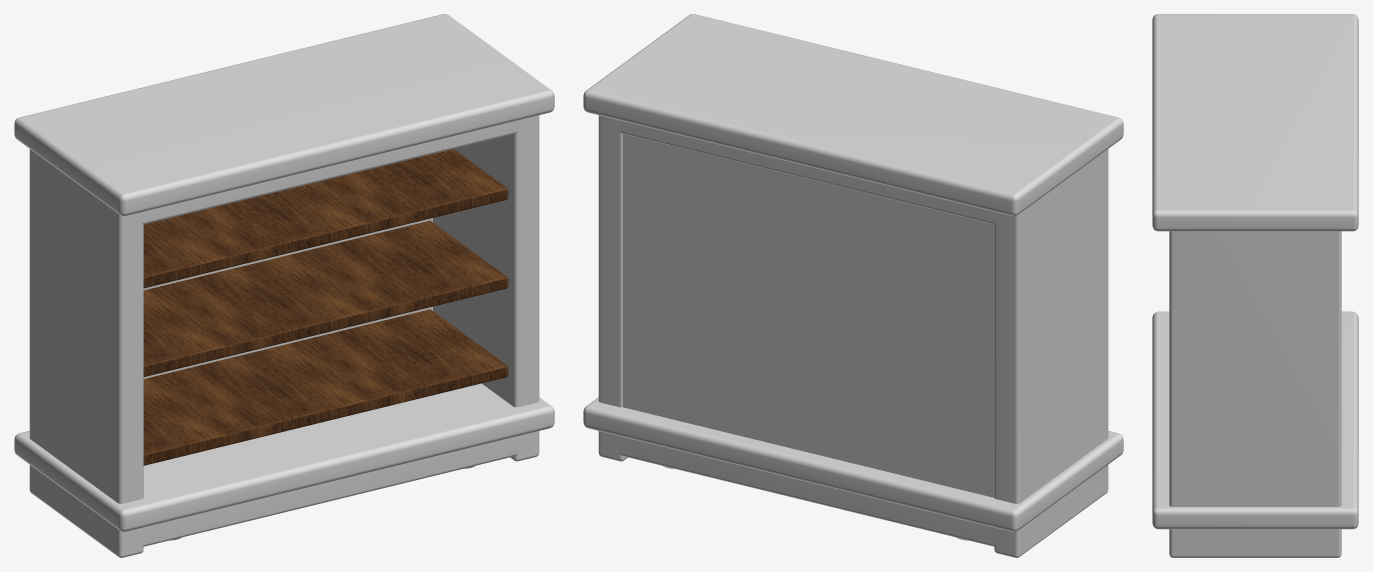
Rendered from DocumentBody.fbx.
3 views of the same model, side by side, from view 1: azimuth 30°, elevation 25°; view 2: azimuth 150°, elevation 25°; view 3: azimuth 270°, elevation 25° (orthographic). The views are drawn at different scales.
Parts seen in each view (by area): view 1: DocumentBody_Walnut, DocumentBody_SmokedOak; view 2: DocumentBody_Walnut; view 3: DocumentBody_Walnut.
Boxes of the visible parts, x1,y1,x2,y2 form: DocumentBody_Walnut: [14, 14, 554, 557]; DocumentBody_SmokedOak: [143, 149, 508, 465]; DocumentBody_Walnut: [583, 14, 1123, 557]; DocumentBody_Walnut: [1152, 14, 1358, 557].
Bounding box in the file's own units: 154 × 126 × 67.
